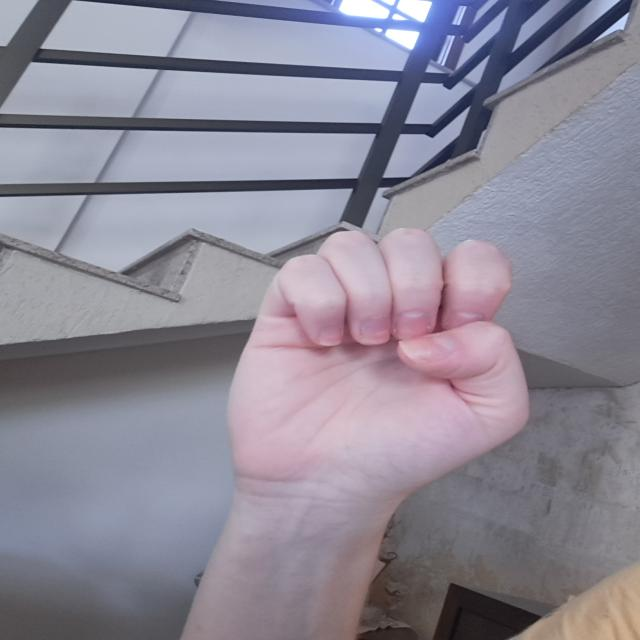E: (222, 228, 544, 518)
